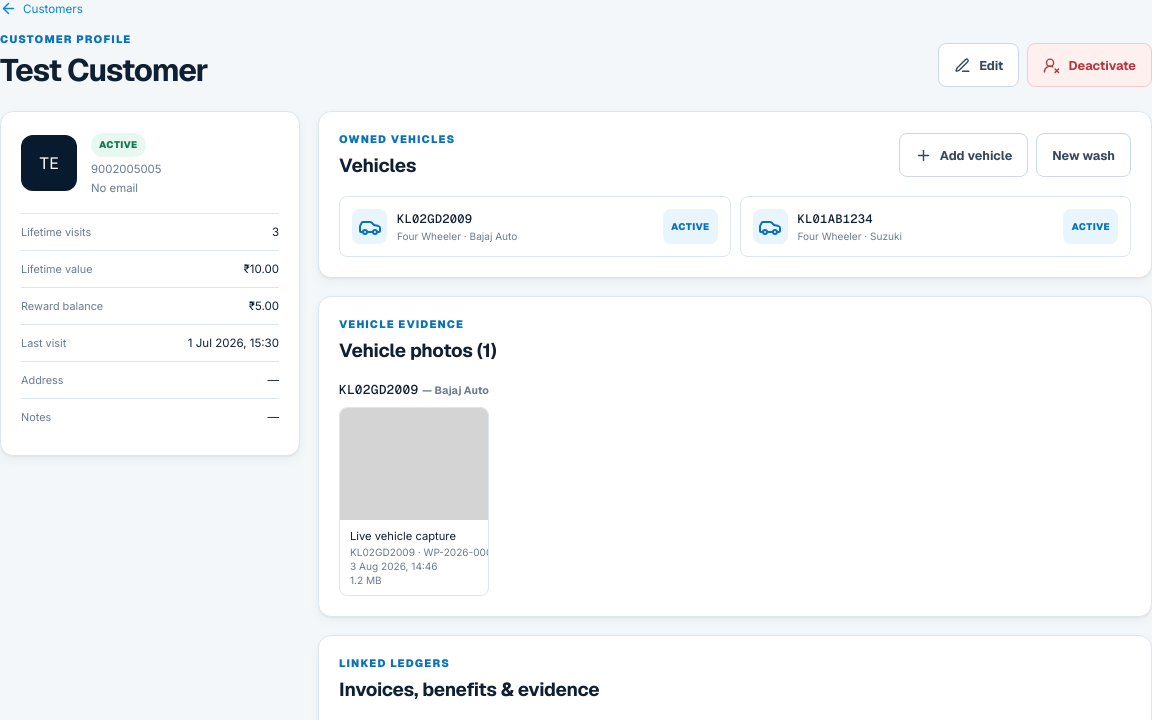
Test case: Vehicle photos section › opens the preview dialog when a photo card is selected
The width and height of the screenshot is (1152, 720).
Click the button "Live vehicle capture": [414, 501] box [339,407,489,596]
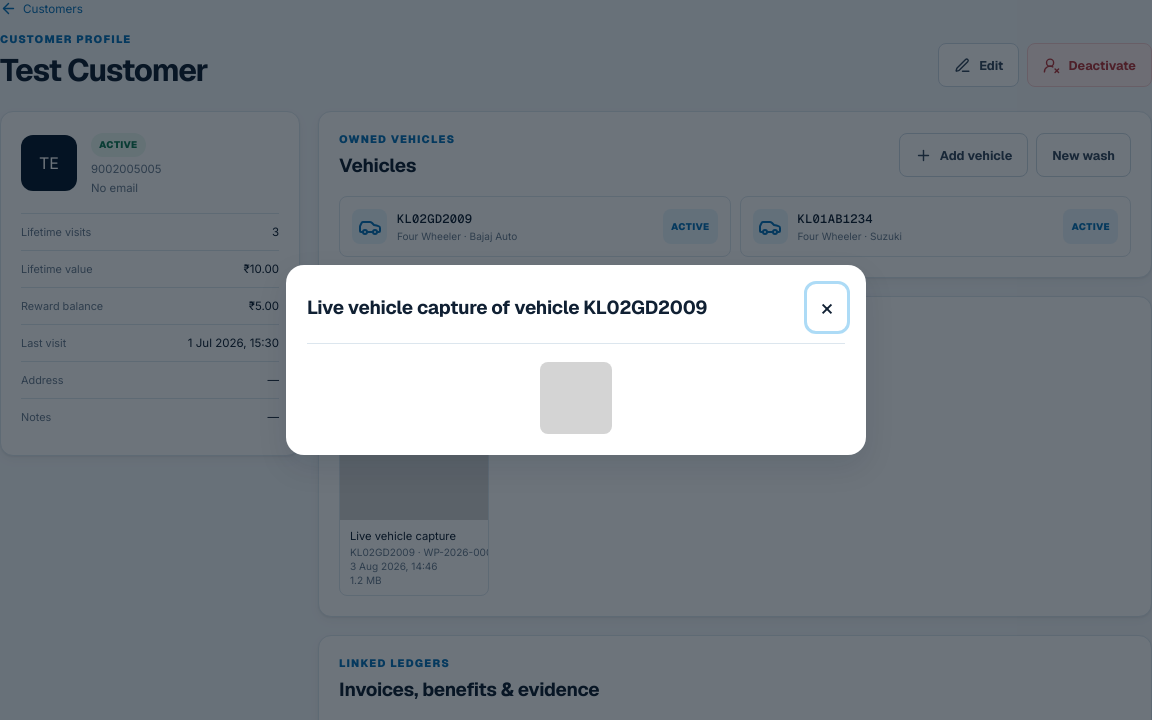
Result: the dialog is shown
